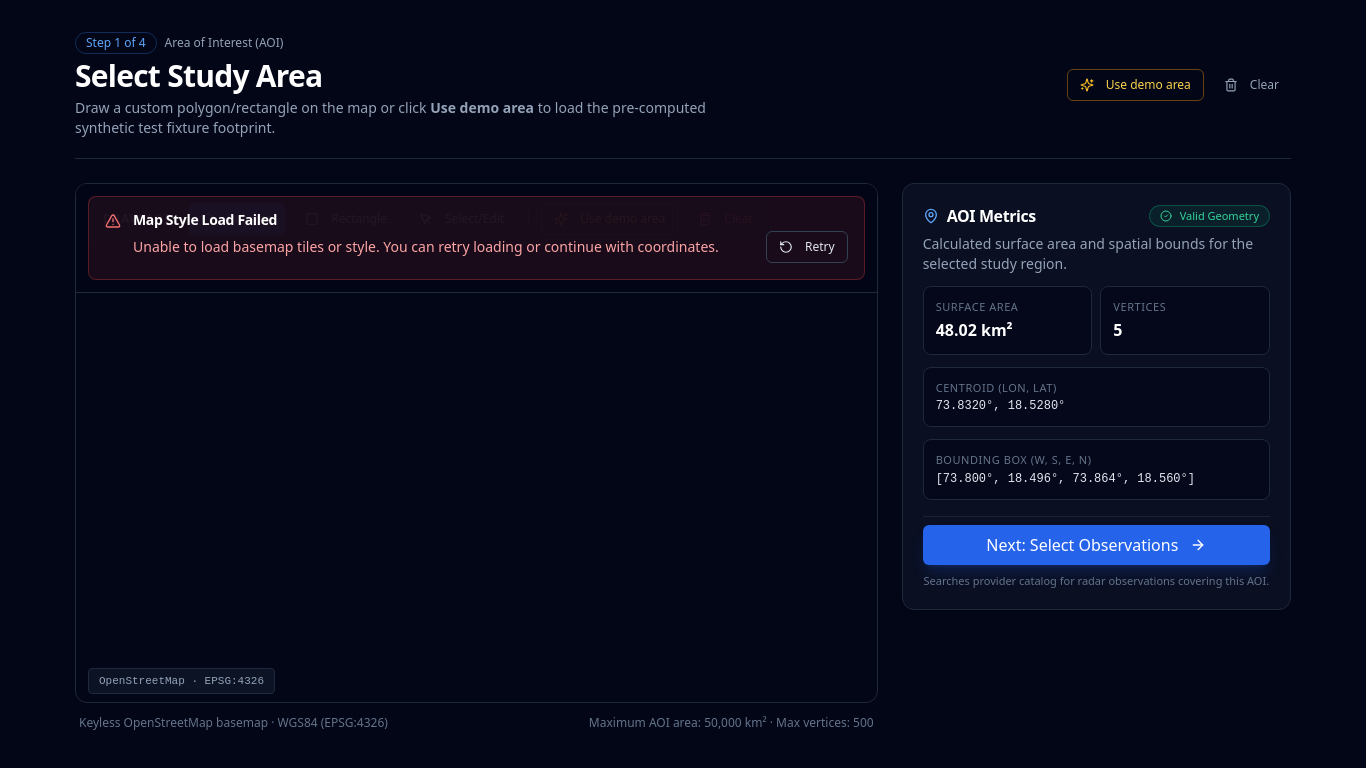
Test case: ExplorePage (real AoiDrawMap integration) › displays Map Style Load Failed Alert on MapLibre error and re-initializes on Retry while preserving stored AOI
Check: the heading "Map Style Load Failed" is shown, box [133, 210, 277, 229]
Click the button "Retry".
click(807, 247)  # box [766, 231, 848, 263]
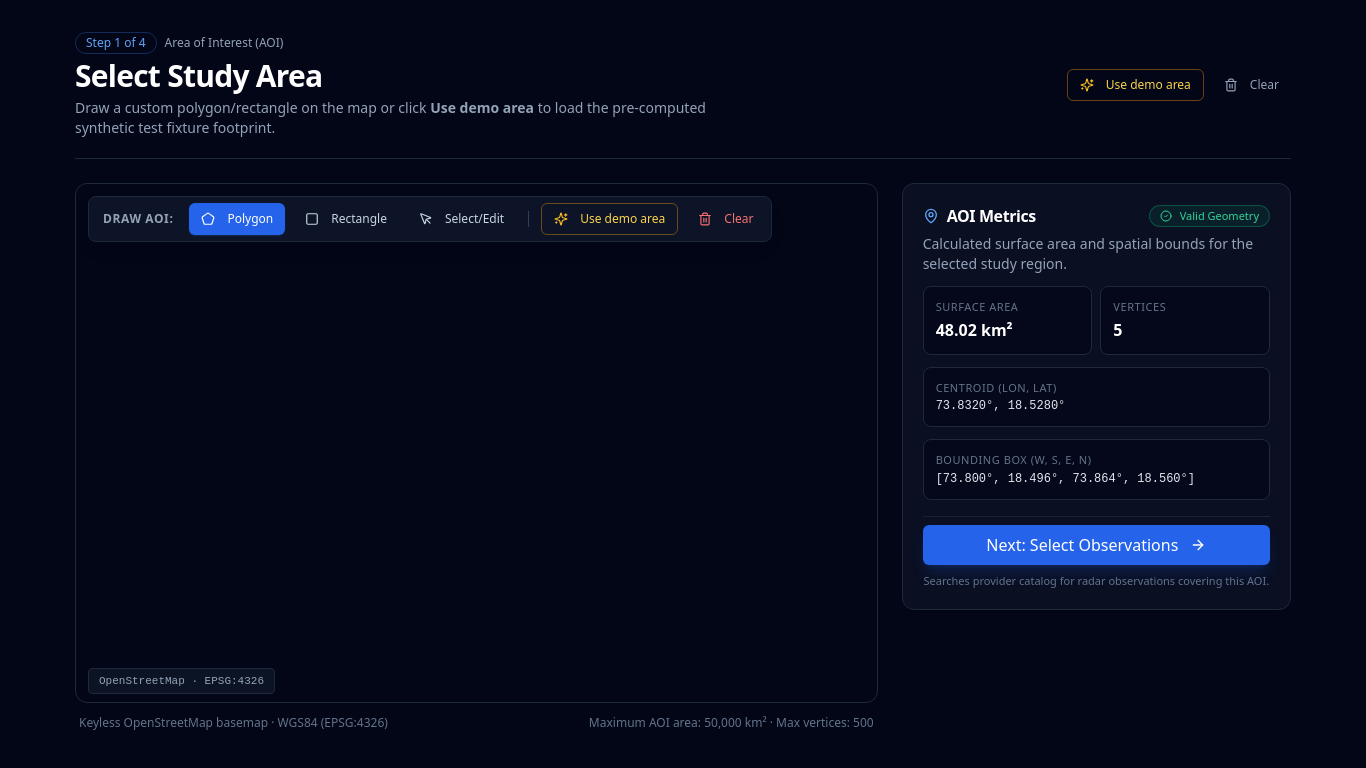
Check: the button "Next: Select Observations" is enabled, box [923, 524, 1270, 564]
Check: the heading "Map Style Load Failed" is gone
